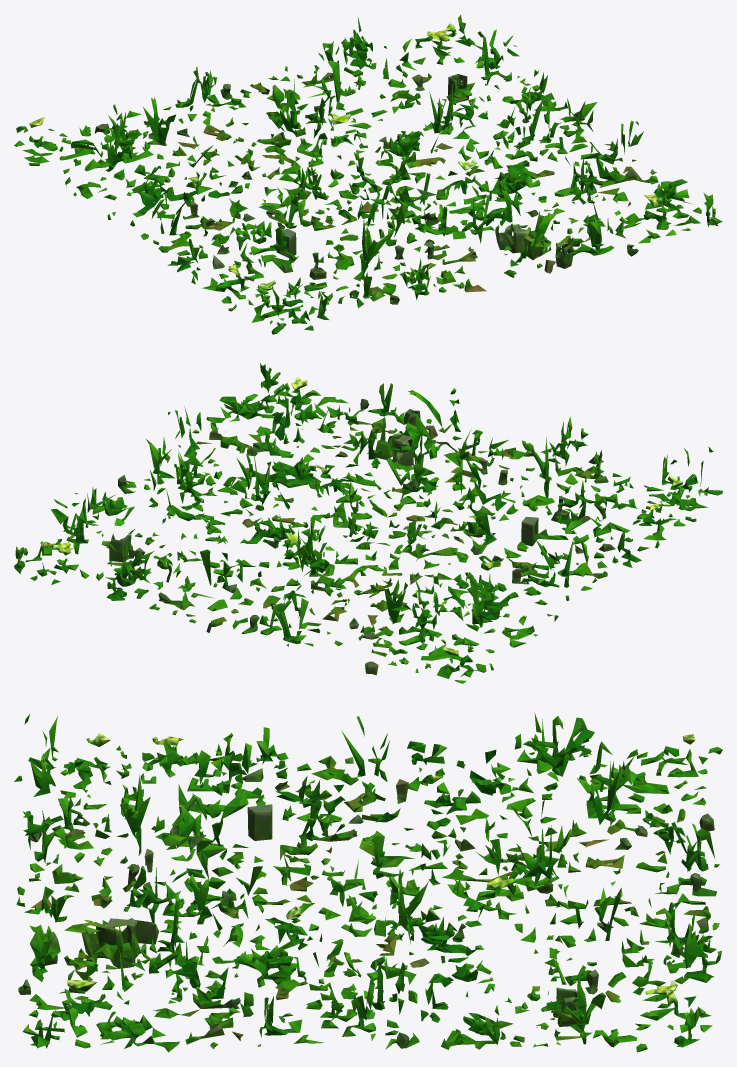
The model's file is grassTile1WithMesh_00001_.glb.
The picture shows the model from 3 angles, top to bottom: view 1: azimuth 30°, elevation 25°; view 2: azimuth 150°, elevation 25°; view 3: azimuth 270°, elevation 25°; orthographic projection. The views are drawn at different scales.
Parts seen in each view (by area): view 1: geometry_0; view 2: geometry_0; view 3: geometry_0.
Part boxes in pixels (<box>): geometry_0: <box>14,15,722,334</box>; geometry_0: <box>14,363,722,683</box>; geometry_0: <box>14,713,722,1052</box>.
Size of the model in its own units: 0.9945 by 0.1651 by 0.9986.
Materials: 1 (1 with a texture image).
